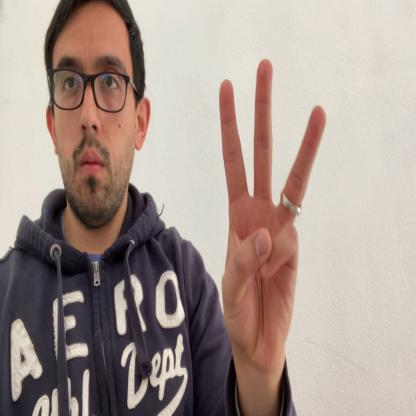W: (218, 58, 326, 369)
